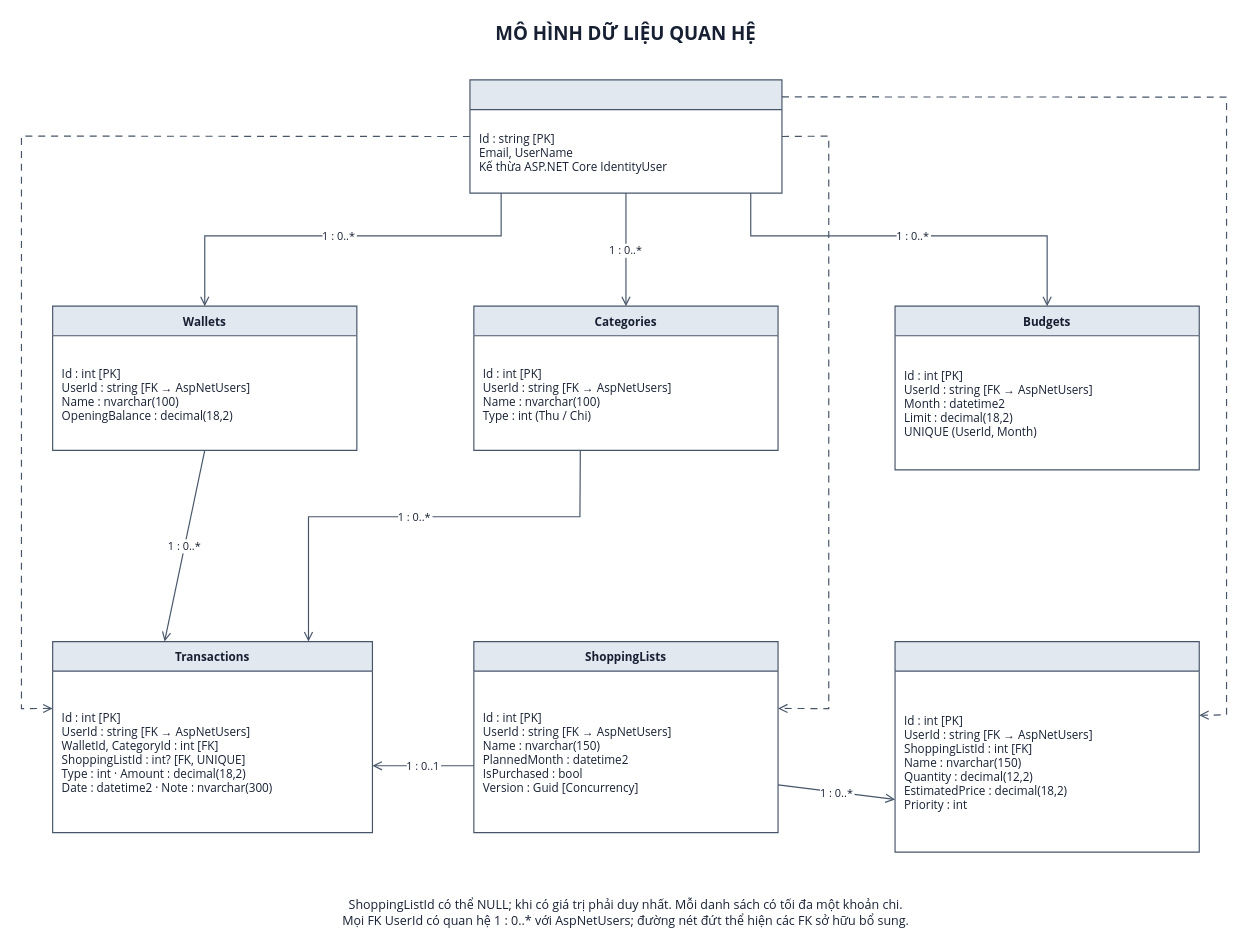
The diagram is 1250 pixels wide and 951 high, and some of its shapes have lost their labels. Here are the shapes that lost their labels. From the top down, the box of each, then its label:
(469, 79, 782, 193): AspNetUsers / ApplicationUser
(894, 641, 1199, 852): ShoppingItems
